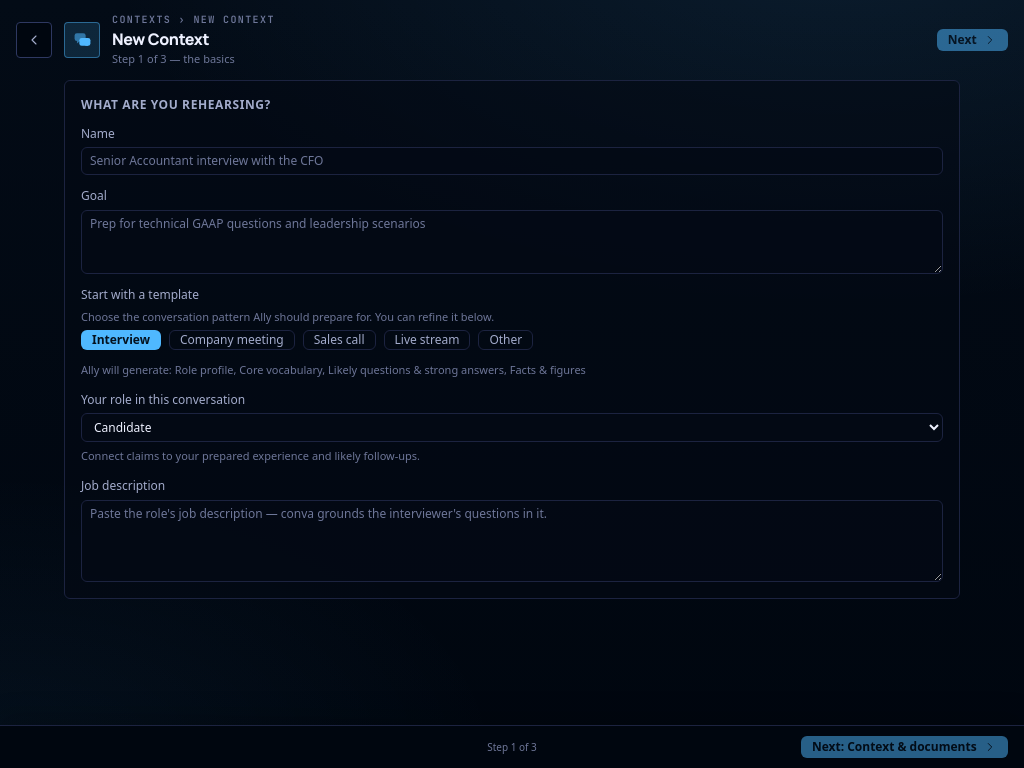
Test case: ContextSetup wizard › Paste saves the clipboard as a file and marks it as coming from the clipboard
Type "New one" into the field with placeholder "Senior Accountant interview with the CFO" at [512, 161], box [81,147,943,175]
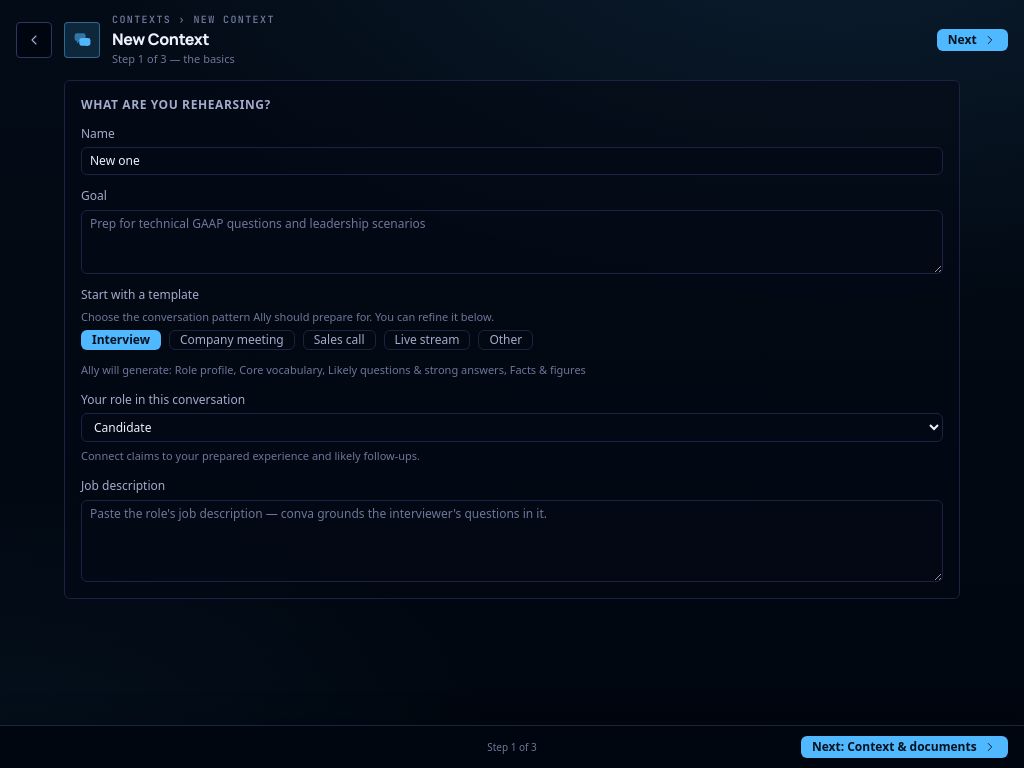
Click the button "Next: Context & documents" at [904, 747], box [801,736,1008,758]
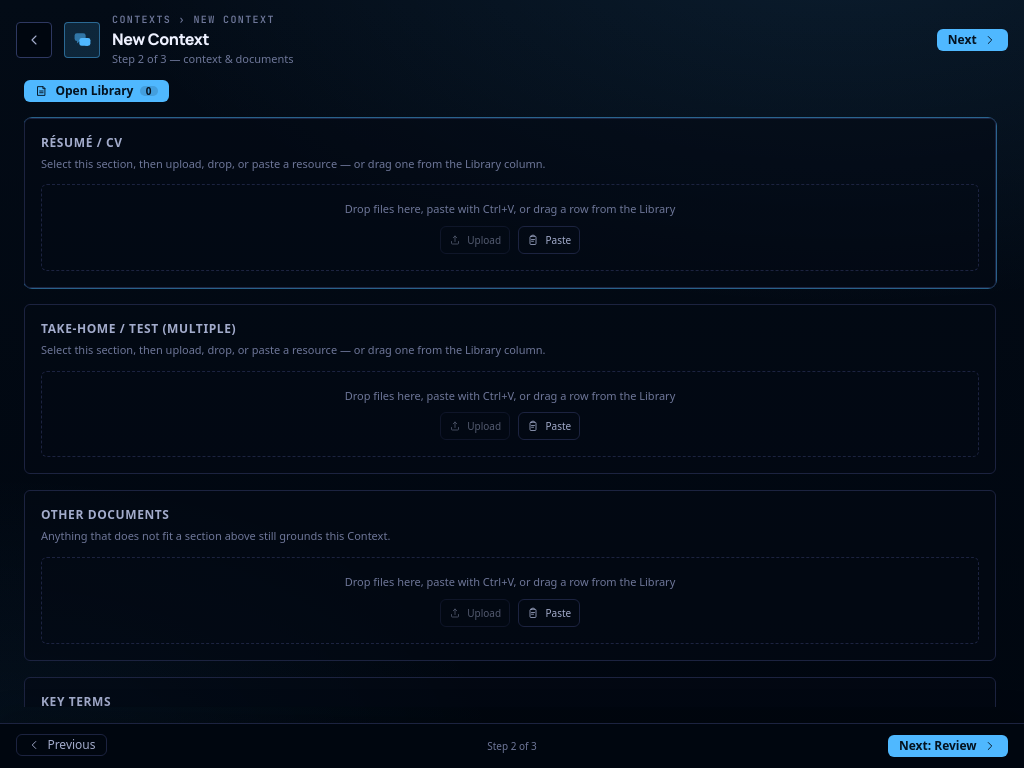
Click the button with aria-label "Paste clipboard into Résumé / CV" at [549, 240], box [518,226,580,254]
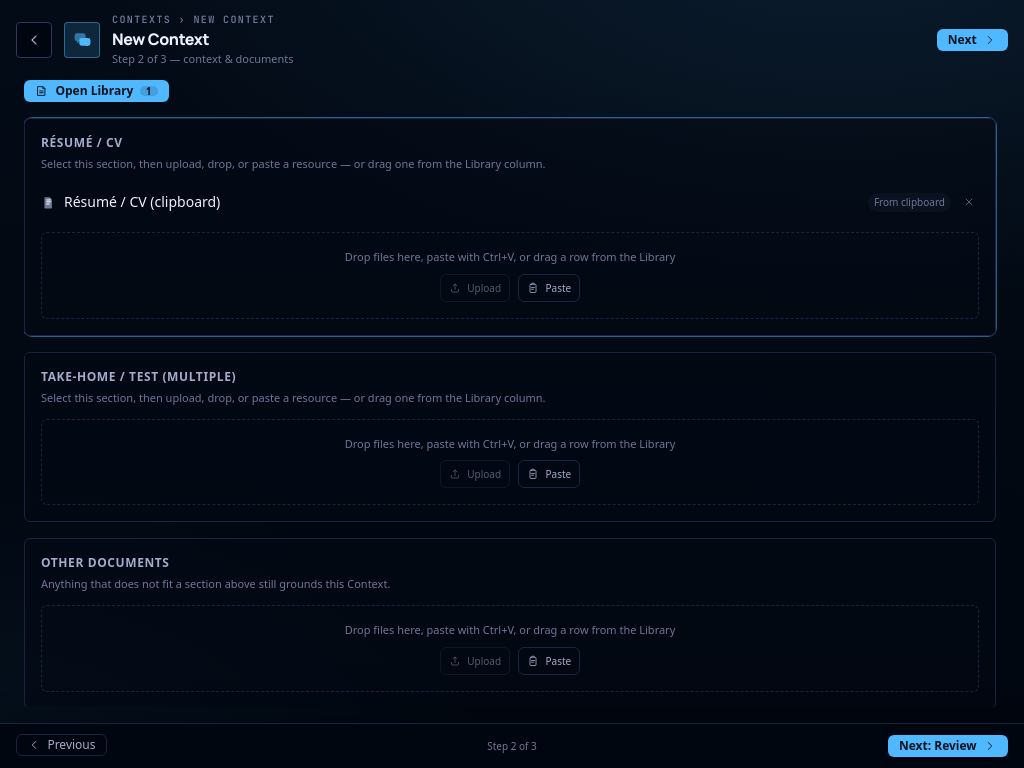
Expected: the text "From clipboard" is shown, [868,193,951,212]
